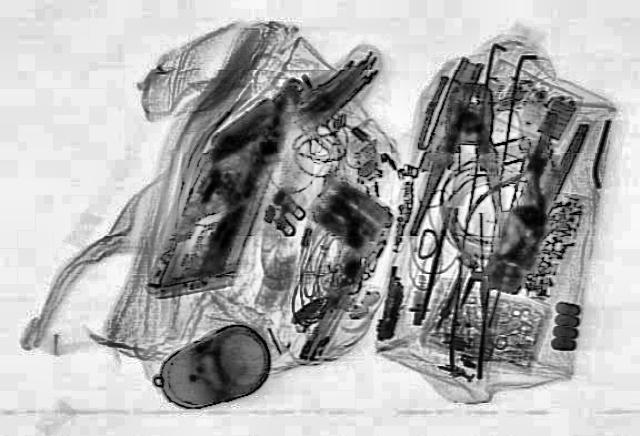Pliers: (480, 112, 592, 296), (406, 80, 524, 240)
